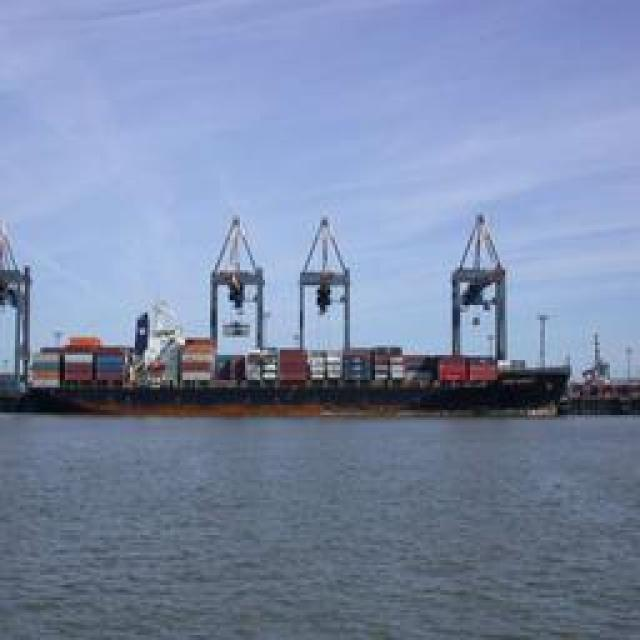ship2: (24, 299, 569, 420)
